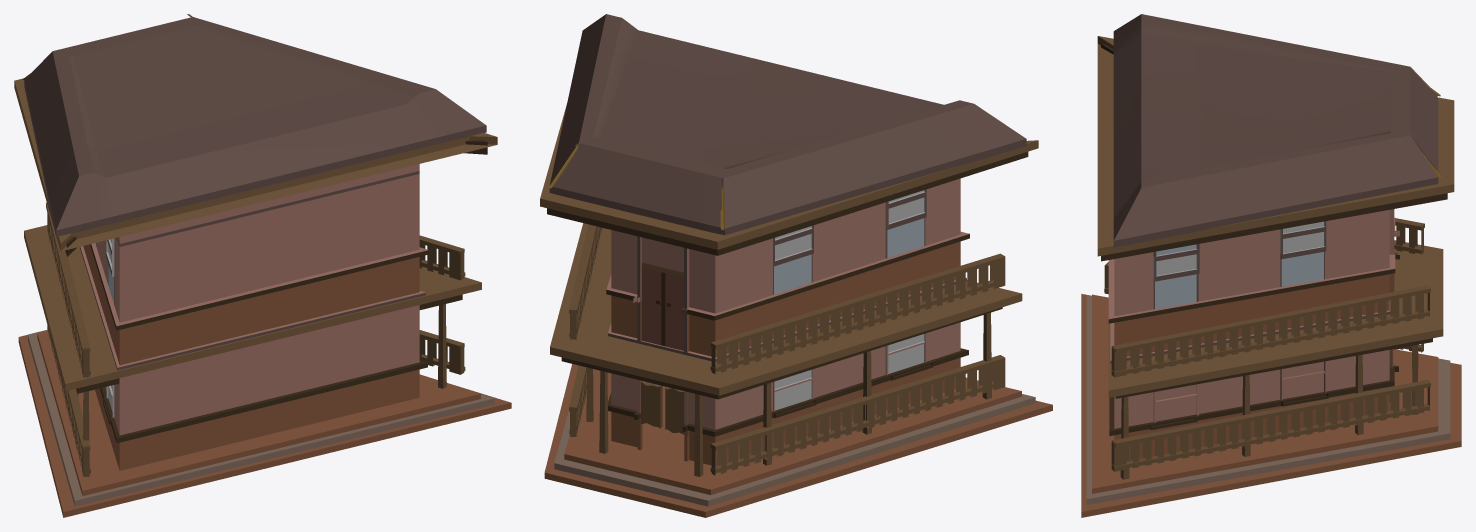
File: Hotel.fbx
3 views of the same model, side by side, from view 1: azimuth 30°, elevation 25°; view 2: azimuth 150°, elevation 25°; view 3: azimuth 270°, elevation 25° (orthographic). The views are drawn at different scales.
Parts seen in each view (by area): view 1: pCube80, pCube87, pCube74, pCube99, pCube88, pCube97, pCube98, pCube108, pCube107, pCube111, pCube104, pCube76 (+1 smaller); view 2: pCube87, pCube80, pCube74, pCube99, pCube97, pCube88, pCube107, pCube98, pCube76, pCube89, pCube108, pCube100 (+9 smaller); view 3: pCube87, pCube80, pCube99, pCube74, pCube88, pCube97, pCube98, pCube111, pCube104, pCube110, pCube102, pCube89 (+4 smaller).
Boxes of the visible parts, x1,y1,x2,y2 form: pCube80: [79, 164, 428, 470]; pCube87: [22, 14, 486, 237]; pCube74: [24, 225, 481, 391]; pCube99: [37, 330, 480, 496]; pCube88: [14, 78, 497, 251]; pCube97: [18, 335, 511, 517]; pCube98: [28, 329, 494, 506]; pCube108: [46, 202, 90, 352]; pCube107: [47, 213, 89, 377]; pCube111: [419, 243, 464, 280]; pCube104: [419, 338, 464, 374]; pCube76: [47, 325, 89, 475]; pCube87: [548, 14, 1026, 235]; pCube80: [606, 178, 969, 465]; pCube74: [550, 223, 1022, 395]; pCube99: [564, 369, 1021, 494]; pCube97: [544, 364, 1052, 517]; pCube88: [540, 104, 1038, 249]; pCube107: [711, 260, 1005, 373]; pCube98: [554, 394, 1035, 506]; pCube76: [711, 362, 1005, 475]; pCube89: [547, 151, 1028, 255]; pCube108: [710, 253, 1005, 349]; pCube100: [710, 355, 1005, 450]; pCube87: [1113, 14, 1441, 247]; pCube80: [1108, 209, 1399, 460]; pCube99: [1092, 294, 1438, 493]; pCube74: [1108, 240, 1443, 397]; pCube88: [1097, 36, 1454, 256]; pCube97: [1081, 294, 1461, 517]; pCube98: [1086, 295, 1450, 504]; pCube111: [1111, 292, 1429, 377]; pCube104: [1111, 387, 1429, 471]; pCube110: [1112, 285, 1430, 352]; pCube102: [1112, 380, 1430, 447]; pCube89: [1101, 44, 1447, 261].
Size of the model in its own units: 20.64 by 13.58 by 15.2.
5 materials, 1 textured.
